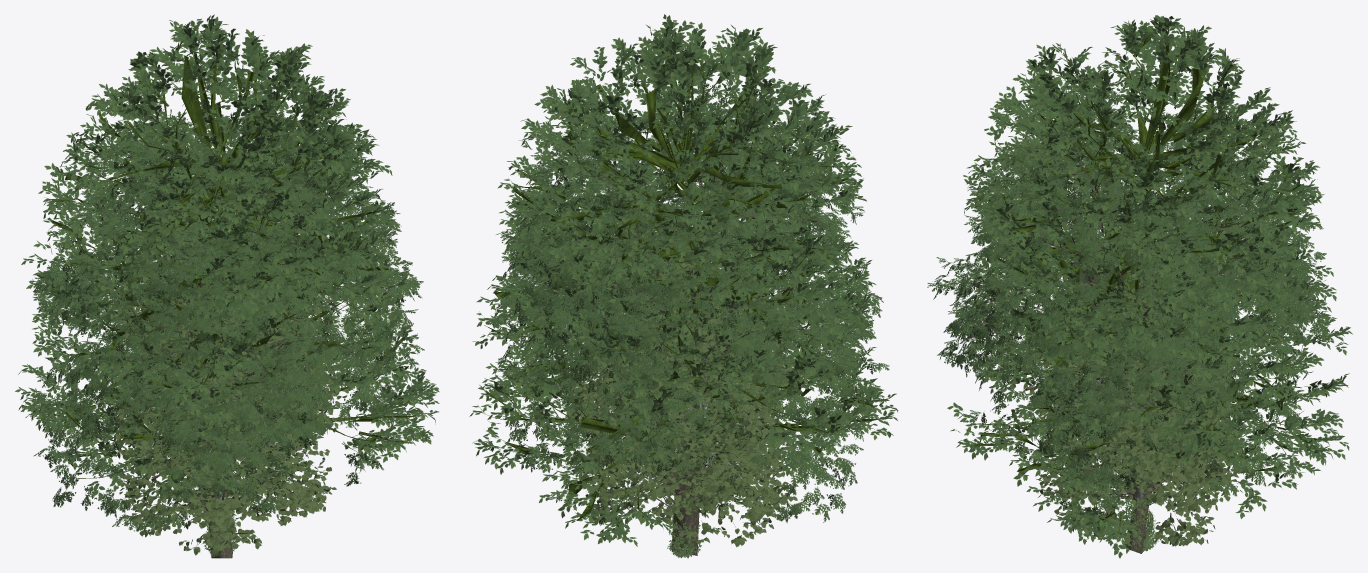
The model's file is vegetation_03.glb.
The picture shows the model from 3 angles, left to right: view 1: azimuth 30°, elevation 25°; view 2: azimuth 150°, elevation 25°; view 3: azimuth 270°, elevation 25°; orthographic projection.
Visible parts, largest first — view 1: prototype_025, prototype_024, prototype_027, prototype_028, prototype_026; view 2: prototype_025, prototype_024, prototype_027, prototype_028, prototype_026; view 3: prototype_025, prototype_024, prototype_027, prototype_028, prototype_026.
Part boxes in pixels (box(x1,y1,x2,y2)): prototype_025: box(15, 14, 439, 499); prototype_024: box(30, 104, 424, 558); prototype_027: box(95, 237, 354, 549); prototype_028: box(114, 295, 327, 556); prototype_026: box(107, 246, 333, 506); prototype_025: box(469, 14, 898, 546); prototype_024: box(484, 63, 889, 555); prototype_027: box(563, 244, 804, 548); prototype_028: box(579, 291, 787, 541); prototype_026: box(591, 224, 784, 549); prototype_025: box(947, 15, 1352, 558); prototype_024: box(927, 77, 1333, 553); prototype_027: box(1026, 234, 1251, 546); prototype_028: box(1029, 272, 1238, 545); prototype_026: box(1033, 239, 1260, 539).
Bounding box in the file's own units: 15.2 × 20.7 × 15.18.
14 materials, 14 textured.
